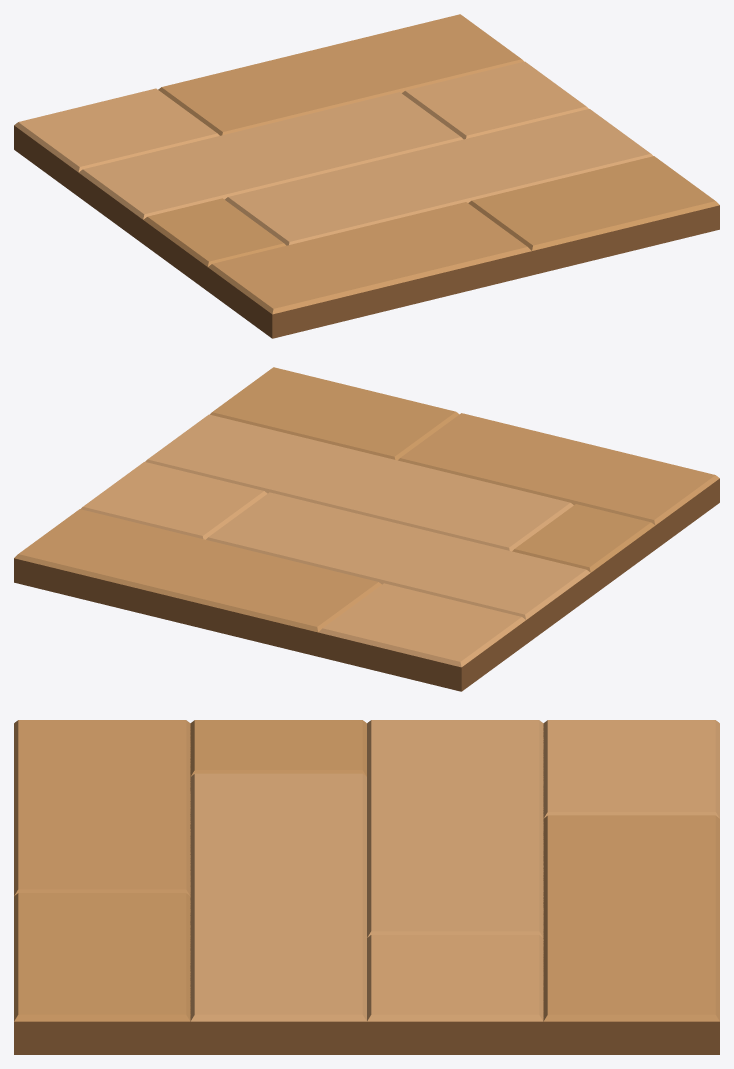
The model's file is boden_holz_a.glb.
3 renders of one model, top to bottom at view 1: azimuth 30°, elevation 25°; view 2: azimuth 150°, elevation 25°; view 3: azimuth 270°, elevation 25°, orthographic. The views are drawn at different scales.
Visible parts, largest first — view 1: boden_holz_a; view 2: boden_holz_a; view 3: boden_holz_a.
Boxes of the visible parts, x1=… form: boden_holz_a: x1=14, y1=14, x2=719, y2=338; boden_holz_a: x1=14, y1=367, x2=719, y2=691; boden_holz_a: x1=14, y1=720, x2=719, y2=1054.
Size of the model in its own units: 1 by 0.06 by 1.
